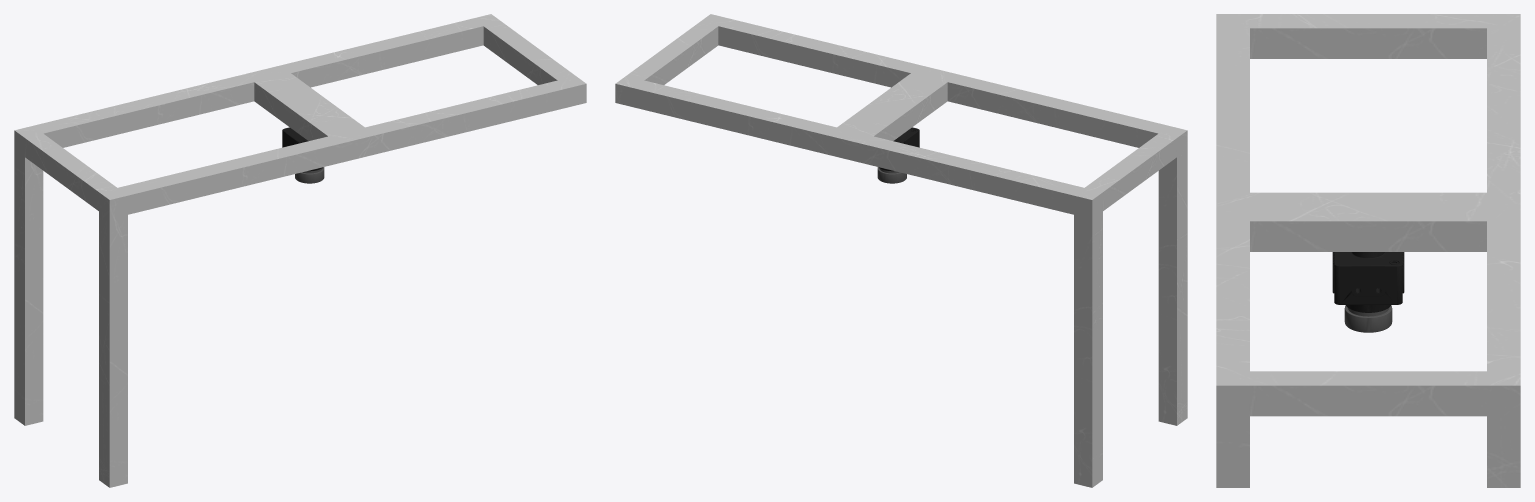
The model's file is InspectionStation_Cube03.glb.
3 renders of one model, left to right at view 1: azimuth 30°, elevation 25°; view 2: azimuth 150°, elevation 25°; view 3: azimuth 270°, elevation 25°, orthographic. The views are drawn at different scales.
Visible parts, largest first — view 1: color-2.001; view 2: color-2.001; view 3: color-2.001.
Part boxes in pixels (<box>): color-2.001: <box>14,14,586,487</box>; color-2.001: <box>615,14,1187,487</box>; color-2.001: <box>1216,14,1520,487</box>.
Bounding box in the file's own units: 0.26 × 0.15 × 0.09.
Materials: 4 (3 with a texture image).
